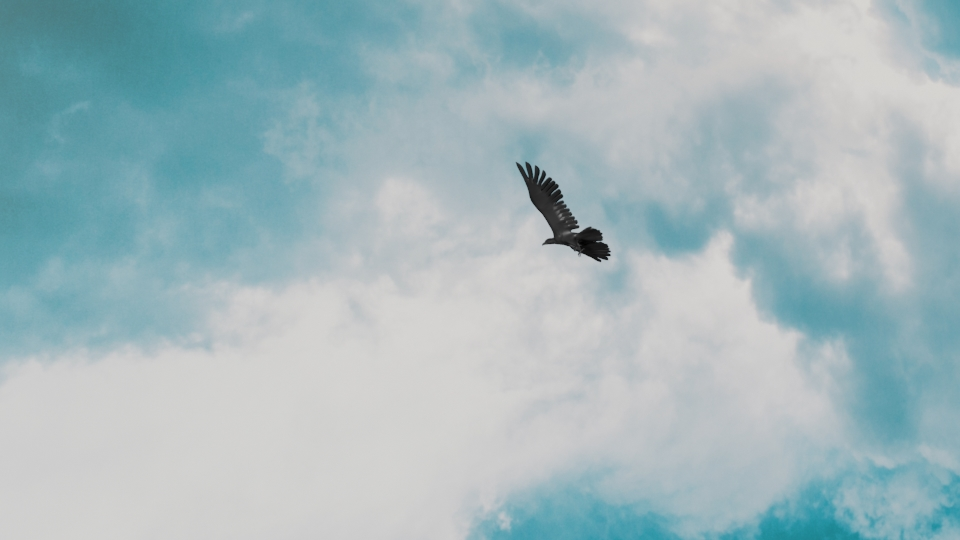bird: (514, 160, 612, 263)
